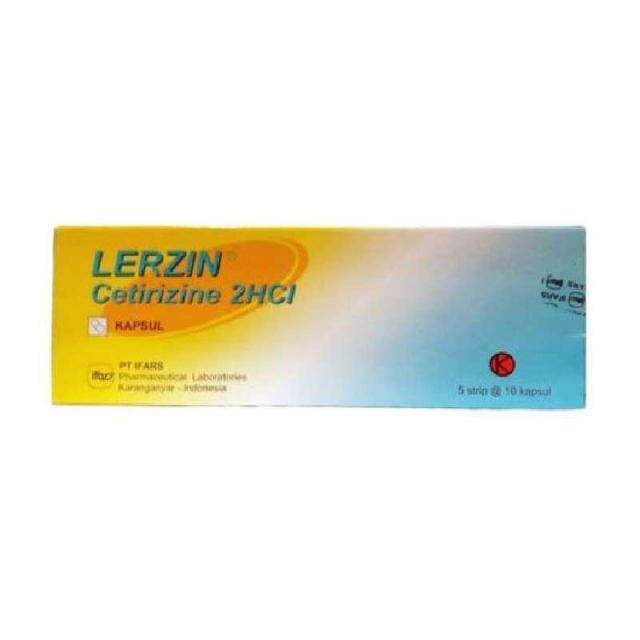drug-name: (86, 248, 226, 278)
